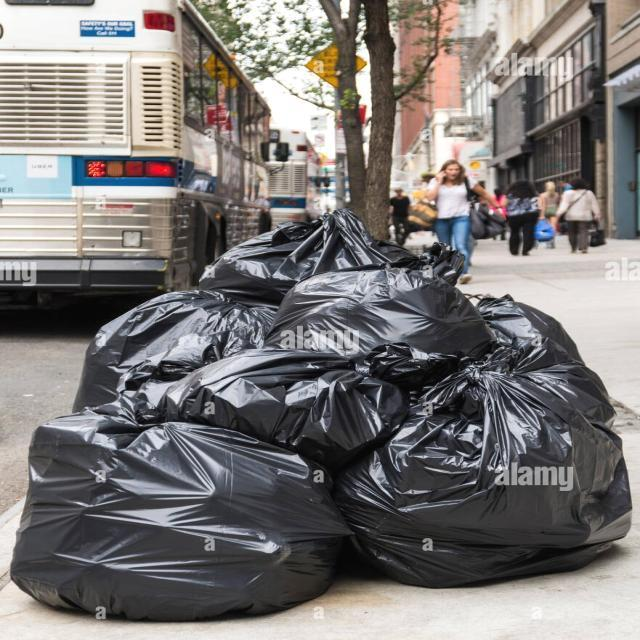high trash: (11, 210, 631, 620)
